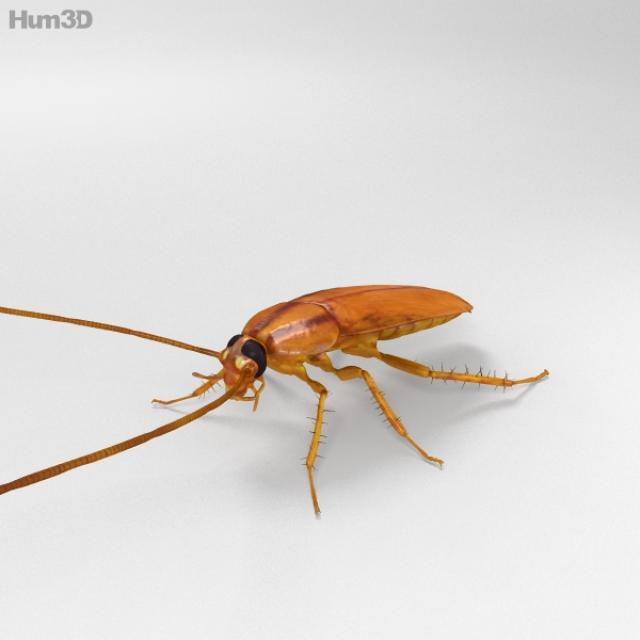Cockroach: (0, 258, 557, 531)
